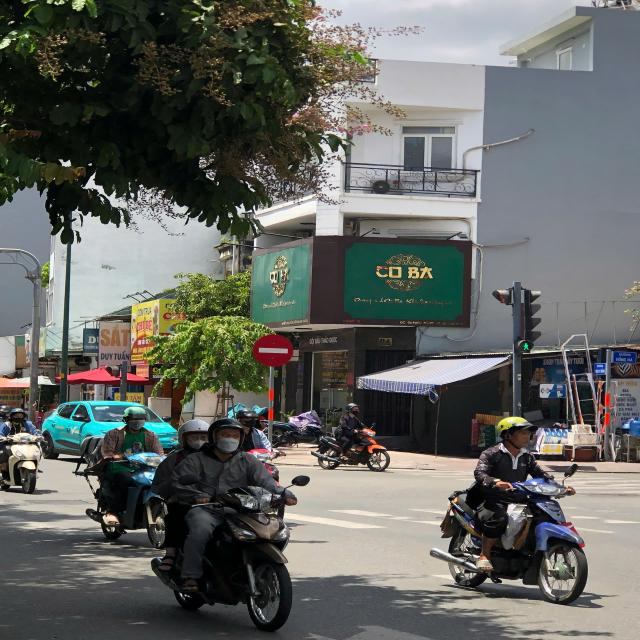Bien bao cam di nguoc chieu: (244, 329, 299, 371)
